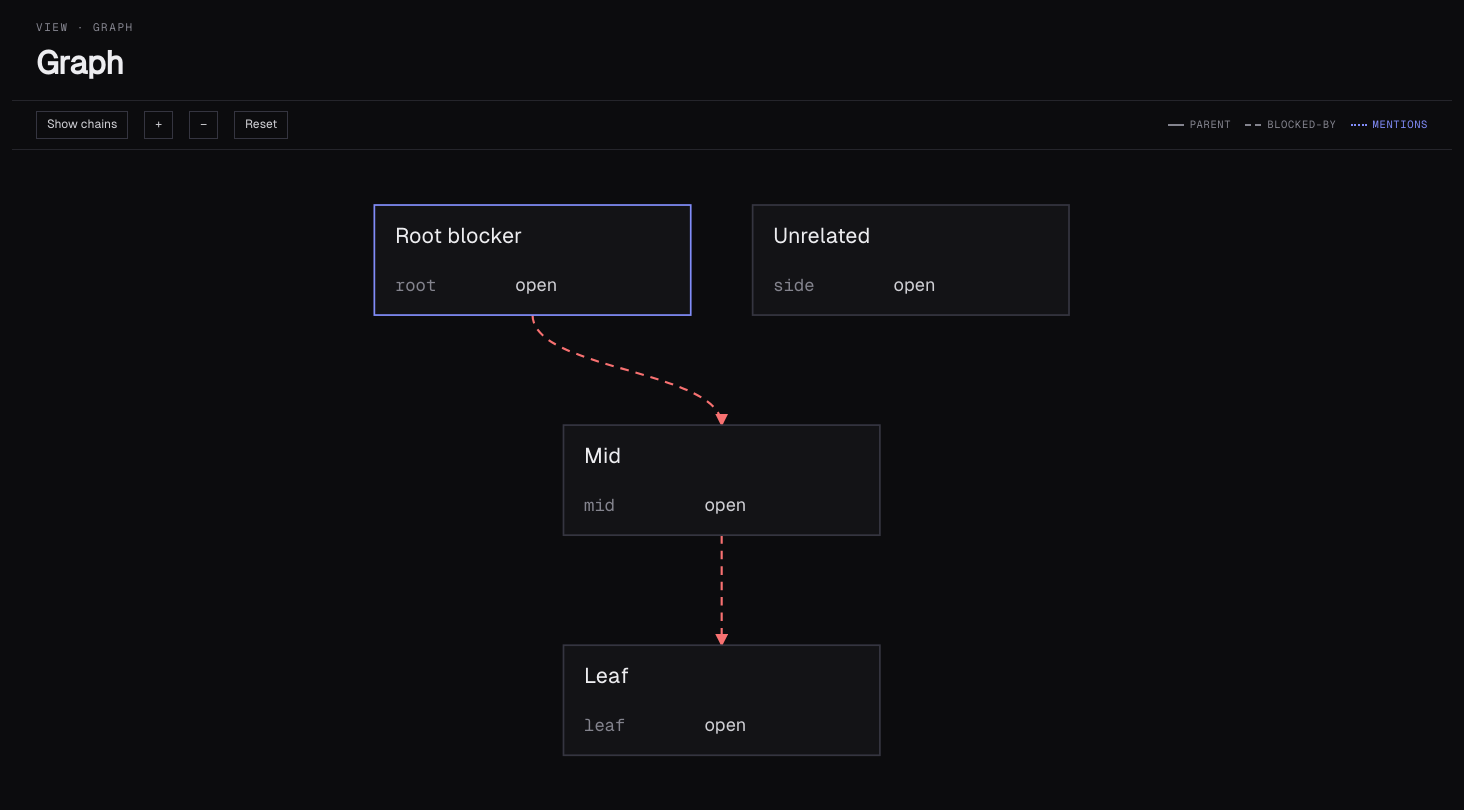
it: GraphView › Show chains highlights the root blocker and surfaces its count
Check: the element with test id "graph-node-root" is shown, box left=395, top=223, right=557, bottom=296
Click the button with test id "graph-toggle-chains".
click(82, 125)  # box left=36, top=111, right=128, bottom=139
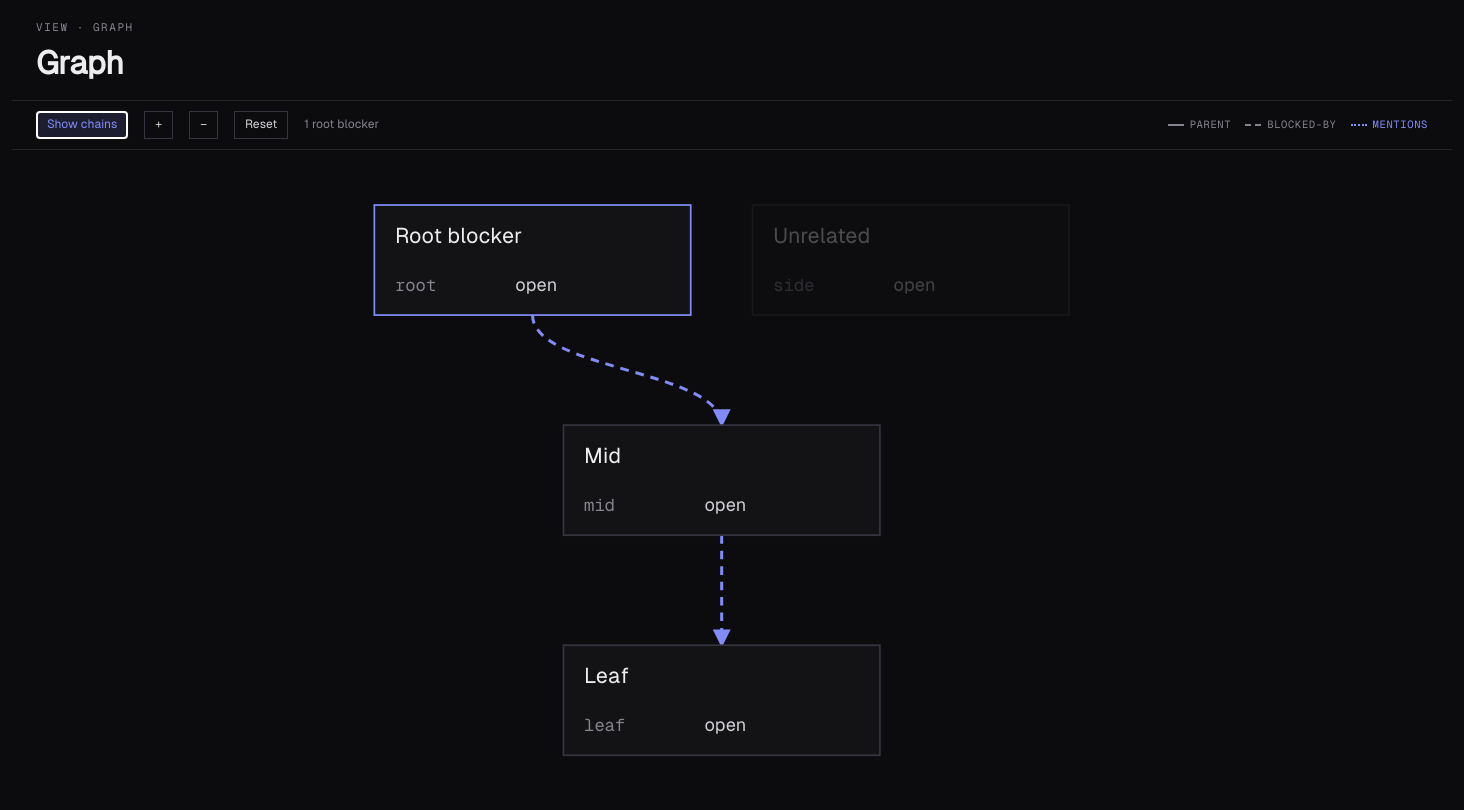
Check: the text with test id "graph-rootblocker-count" reads "1 root blocker", box left=304, top=116, right=379, bottom=134
